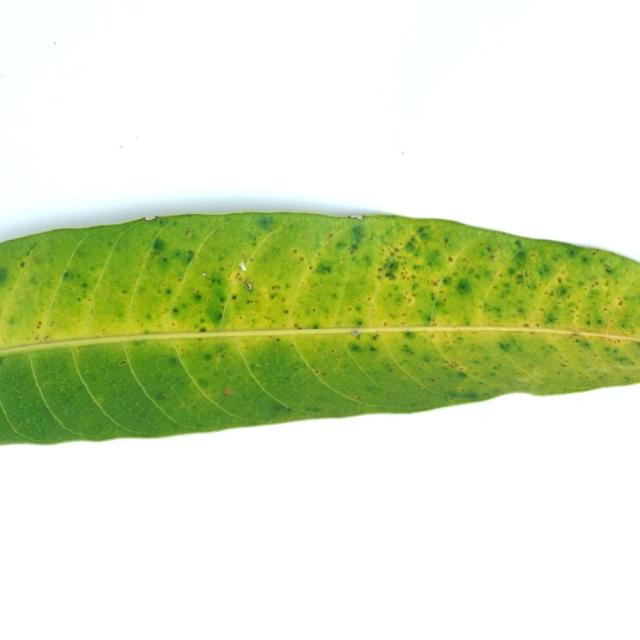Mango: (0, 212, 639, 443)
Powdery_Mildew: (482, 267, 534, 318), (196, 282, 236, 323), (438, 355, 472, 376), (382, 258, 405, 280), (402, 237, 424, 258), (455, 276, 472, 301), (552, 284, 572, 304), (349, 223, 366, 245), (535, 262, 555, 280), (256, 216, 274, 231), (151, 238, 168, 253), (190, 291, 206, 306), (316, 263, 333, 276), (183, 249, 197, 264), (349, 343, 368, 354), (272, 403, 292, 413), (61, 270, 78, 281), (0, 267, 9, 285), (513, 239, 525, 251), (201, 352, 215, 362), (416, 226, 430, 236), (403, 330, 417, 339), (488, 249, 499, 260), (352, 318, 365, 327), (515, 273, 525, 283), (604, 265, 615, 274), (157, 392, 168, 401), (309, 322, 321, 330), (271, 284, 281, 292), (594, 318, 604, 326), (430, 279, 441, 286), (171, 307, 180, 314), (371, 334, 380, 340), (316, 369, 325, 375), (20, 261, 26, 268), (36, 321, 42, 328), (376, 268, 382, 275), (617, 300, 624, 306), (448, 256, 454, 262), (294, 324, 301, 329), (232, 294, 237, 300), (184, 231, 190, 236), (299, 257, 304, 262), (122, 289, 127, 293), (77, 297, 82, 301), (293, 249, 298, 253), (171, 322, 176, 326)
